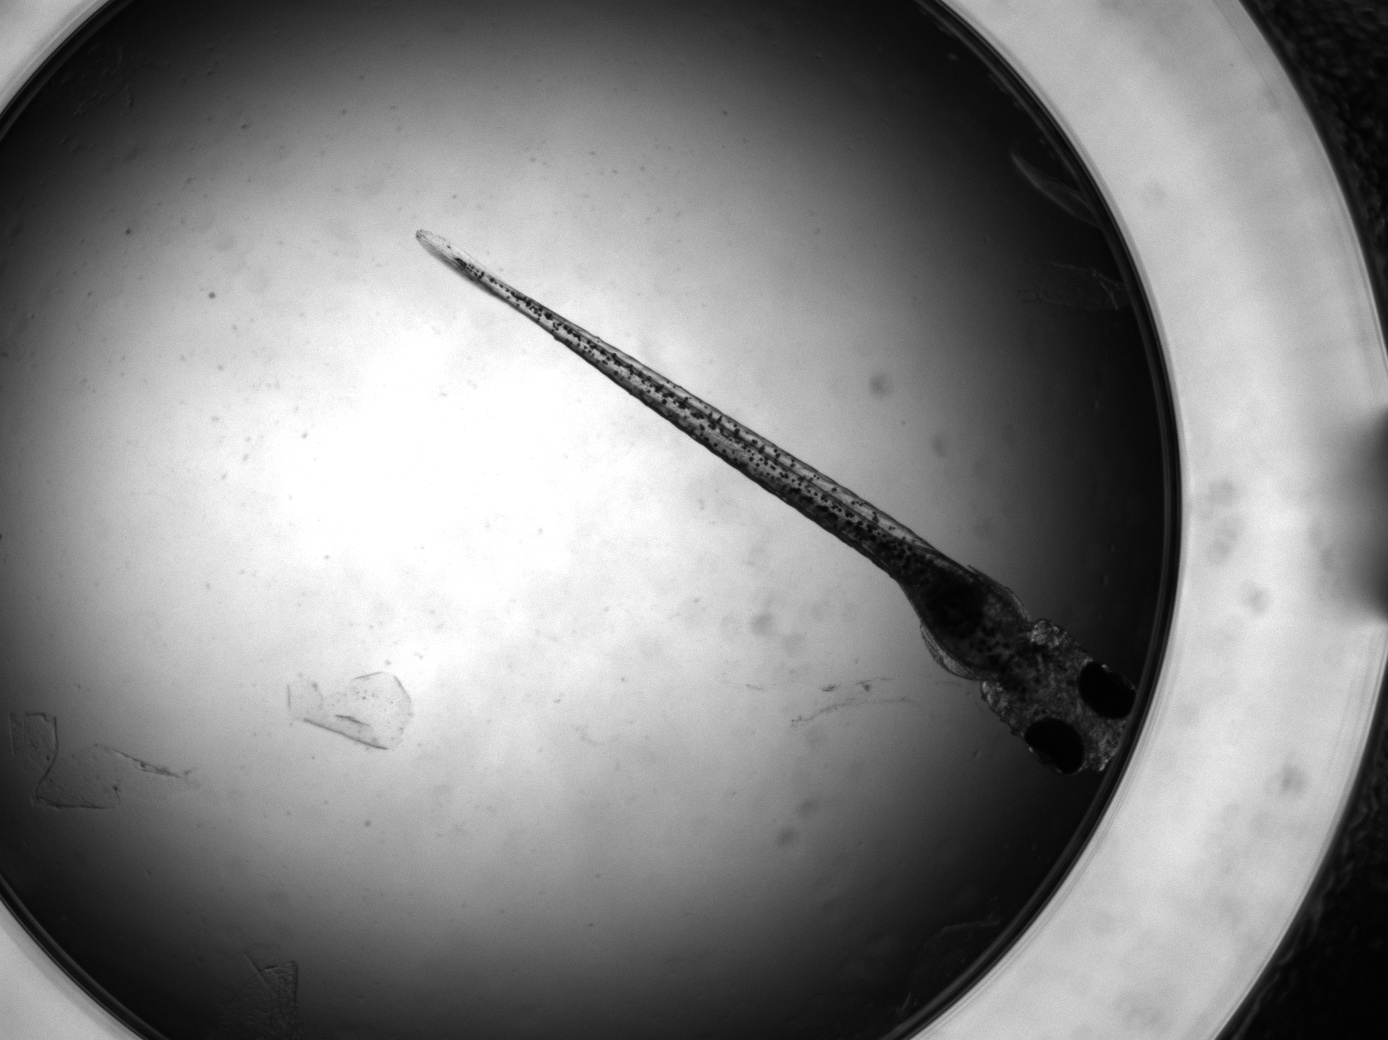debris: (5, 711, 206, 809), (286, 670, 413, 751)
embryo: (415, 228, 1139, 776)
eye: (1077, 660, 1137, 721), (1023, 717, 1086, 775)
yolksac: (888, 539, 1033, 673)
